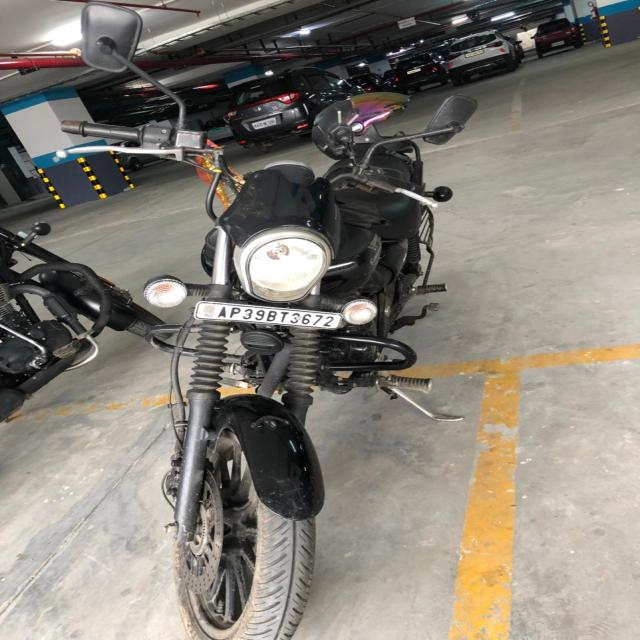license_plate: (192, 300, 344, 330)
